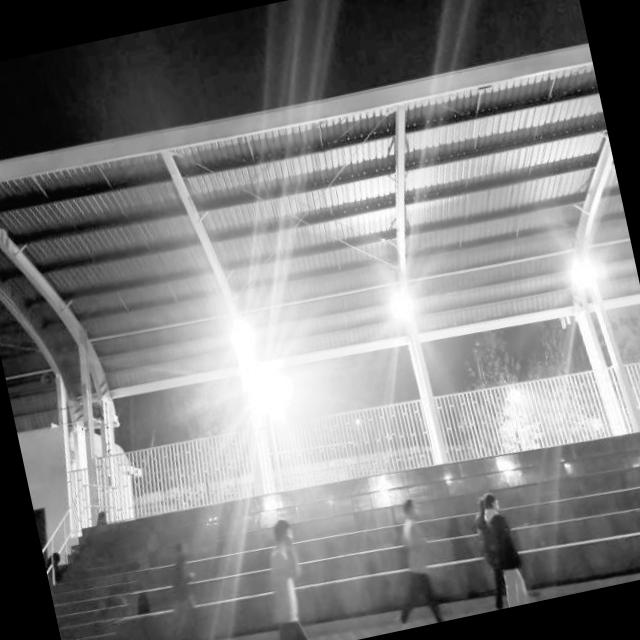Light: (194, 336, 343, 484), (356, 248, 452, 373), (194, 260, 286, 373), (538, 231, 627, 335), (492, 371, 530, 418)
